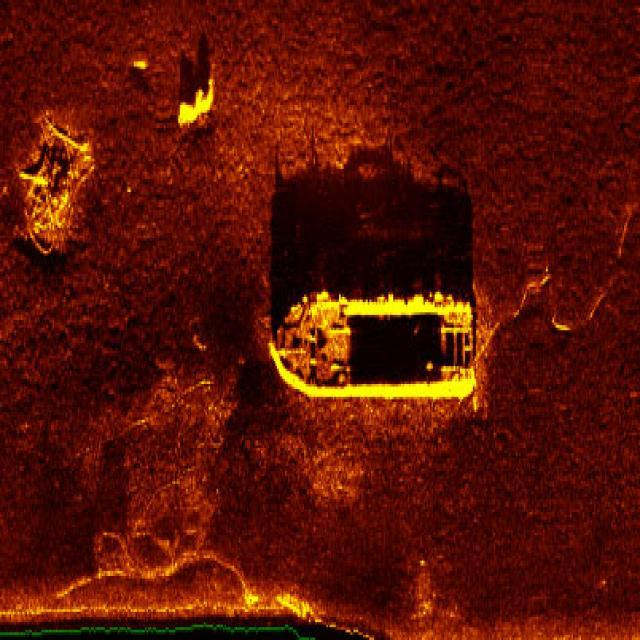shipwreck: (264, 284, 479, 407)
